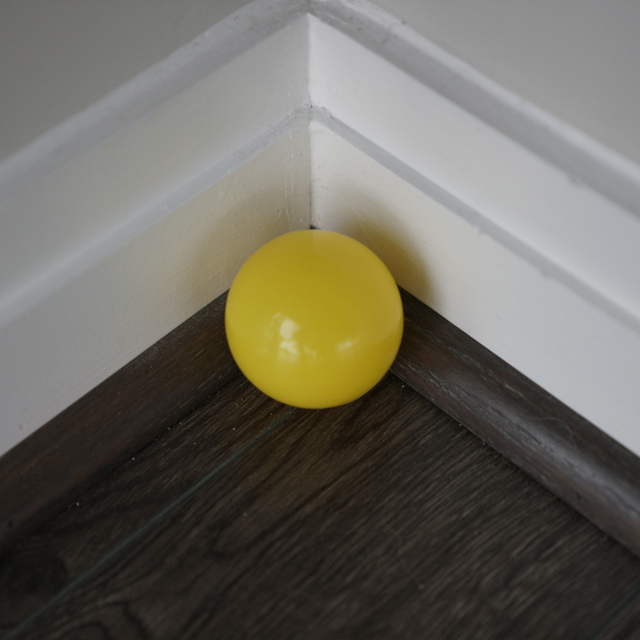Ball: (222, 227, 405, 410)
